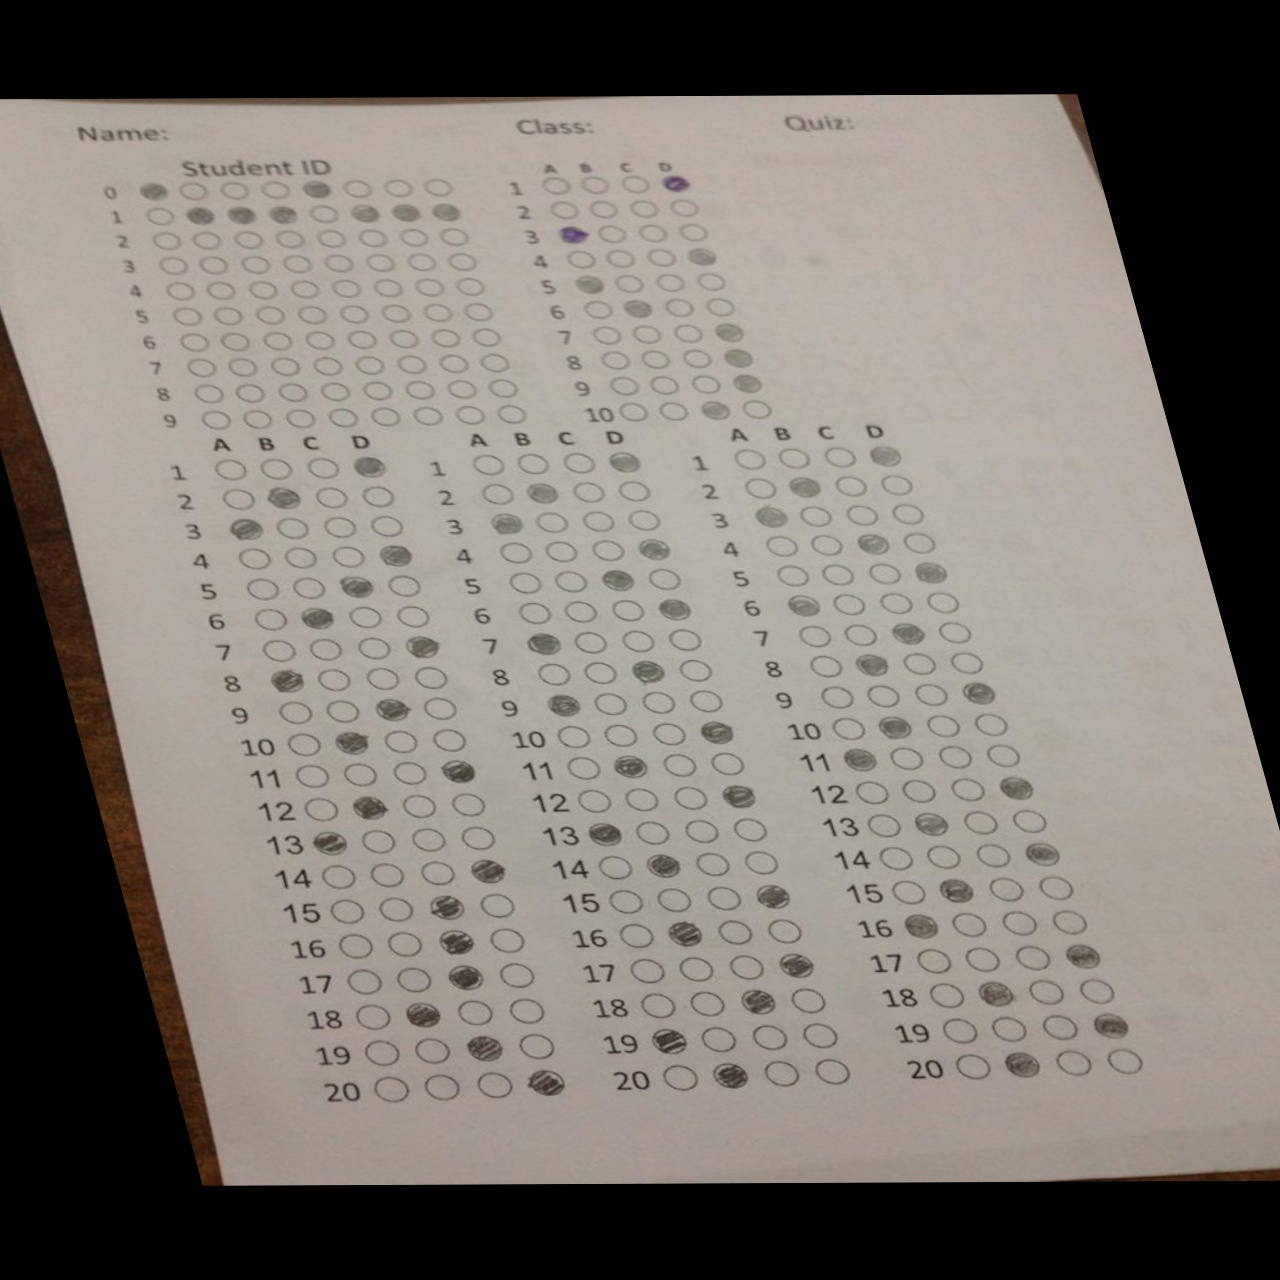not-c: (1048, 1046, 1096, 1077), (654, 1062, 702, 1092), (672, 953, 720, 983), (948, 1050, 996, 1081), (1099, 1046, 1148, 1076), (366, 1073, 413, 1103), (795, 1020, 842, 1050), (721, 953, 768, 983), (469, 1070, 517, 1099), (942, 908, 990, 938), (784, 986, 831, 1015), (745, 1022, 792, 1051), (682, 988, 729, 1017), (622, 954, 669, 983), (806, 1057, 855, 1085), (1073, 976, 1121, 1005), (1032, 873, 1080, 901), (416, 1073, 463, 1101), (756, 1057, 803, 1085), (692, 1024, 738, 1053), (983, 1013, 1030, 1041), (1021, 978, 1068, 1006), (956, 945, 1003, 973), (994, 908, 1041, 937), (1044, 906, 1091, 934), (632, 990, 678, 1019), (590, 852, 635, 880), (629, 818, 675, 846), (935, 1016, 981, 1044), (1036, 1013, 1082, 1041), (1009, 942, 1055, 971), (1005, 806, 1050, 835), (570, 787, 617, 813), (595, 722, 642, 749), (406, 825, 450, 853), (355, 826, 400, 855), (314, 862, 359, 890), (372, 894, 416, 922), (340, 967, 384, 995), (390, 965, 435, 993), (451, 998, 496, 1026), (350, 1002, 395, 1030), (601, 886, 646, 914), (651, 885, 695, 913), (690, 850, 735, 878), (736, 847, 781, 876), (585, 689, 629, 717), (566, 628, 611, 656), (614, 626, 659, 654), (546, 566, 591, 594), (491, 538, 536, 566), (982, 874, 1027, 903), (919, 842, 964, 870), (454, 824, 499, 851), (414, 859, 459, 886), (324, 897, 369, 924), (503, 998, 549, 1024), (358, 1039, 403, 1065), (611, 922, 656, 949), (700, 884, 745, 911), (666, 784, 712, 811), (679, 817, 724, 844), (727, 816, 772, 843), (550, 723, 595, 750), (646, 720, 692, 747), (672, 658, 717, 685), (576, 658, 621, 685), (605, 595, 651, 622), (556, 597, 601, 624), (501, 568, 546, 595), (583, 536, 628, 563), (922, 982, 968, 1009), (971, 842, 1016, 869), (958, 809, 1003, 836), (363, 859, 407, 887), (474, 892, 518, 919), (381, 931, 425, 958), (331, 931, 375, 958), (493, 961, 538, 988), (408, 1036, 452, 1063), (712, 918, 756, 945), (760, 915, 804, 942), (617, 787, 661, 813), (704, 749, 749, 776), (560, 754, 605, 781), (635, 689, 680, 716), (682, 687, 727, 714), (531, 661, 576, 688), (660, 627, 704, 654), (641, 566, 686, 593), (538, 537, 583, 564), (484, 926, 527, 953), (513, 1032, 557, 1058), (656, 753, 700, 779), (512, 600, 556, 627), (736, 474, 779, 501), (794, 501, 836, 527), (256, 638, 299, 663), (309, 666, 353, 692), (396, 792, 440, 818), (770, 561, 813, 587), (791, 622, 835, 648), (908, 681, 952, 707), (968, 712, 1012, 737), (825, 715, 869, 741), (840, 501, 881, 527), (377, 728, 422, 753), (726, 445, 770, 470), (896, 530, 940, 554), (286, 576, 328, 601), (302, 636, 345, 662), (320, 699, 362, 724), (273, 699, 315, 724), (386, 760, 428, 785), (288, 762, 331, 788), (298, 796, 340, 822), (576, 508, 618, 533), (474, 481, 516, 506), (465, 452, 508, 478), (873, 470, 915, 496), (758, 532, 801, 558), (837, 620, 879, 646), (874, 591, 917, 617), (896, 651, 938, 676), (921, 713, 964, 738), (945, 776, 987, 802), (873, 844, 915, 870), (885, 878, 927, 904), (381, 573, 424, 598), (389, 602, 433, 627), (408, 665, 451, 689), (566, 479, 610, 504), (509, 451, 552, 476), (885, 501, 928, 525), (802, 531, 845, 556), (813, 561, 857, 586), (944, 649, 987, 674), (981, 742, 1024, 767), (896, 778, 939, 803), (847, 779, 891, 804), (910, 948, 953, 973), (241, 576, 282, 601), (343, 604, 384, 629), (338, 761, 379, 787), (828, 591, 869, 617), (268, 516, 311, 540), (247, 605, 290, 629), (352, 635, 394, 660), (360, 666, 402, 690), (417, 695, 459, 720), (425, 727, 468, 751), (529, 509, 571, 533), (621, 508, 663, 532), (772, 445, 815, 470), (818, 445, 860, 470), (828, 472, 870, 497), (920, 588, 962, 613), (933, 619, 975, 644), (804, 653, 846, 678), (813, 685, 856, 709), (860, 683, 903, 708), (884, 745, 926, 770), (860, 812, 903, 837), (611, 478, 654, 502), (554, 451, 598, 475), (253, 456, 294, 481), (302, 455, 343, 479), (358, 483, 399, 508), (445, 791, 486, 816), (281, 731, 324, 755), (862, 561, 904, 585), (933, 744, 975, 768), (338, 176, 377, 200), (433, 224, 472, 248), (248, 302, 288, 327), (209, 457, 250, 481), (309, 485, 350, 509), (216, 486, 257, 510), (318, 515, 359, 538), (365, 515, 406, 538), (326, 544, 367, 567), (188, 381, 227, 404), (229, 381, 268, 404), (206, 304, 246, 327), (199, 279, 239, 302), (264, 354, 304, 377), (306, 354, 346, 377), (291, 302, 331, 326), (282, 275, 322, 299), (348, 353, 388, 376), (424, 326, 464, 349), (279, 545, 319, 568), (159, 279, 198, 302), (196, 408, 234, 431), (377, 176, 416, 199), (302, 200, 341, 224), (392, 225, 430, 248), (326, 275, 365, 299), (358, 377, 396, 401), (181, 355, 220, 377), (234, 407, 274, 429), (215, 331, 254, 353), (192, 253, 232, 275), (185, 229, 225, 251), (234, 253, 274, 275), (441, 250, 481, 272), (322, 406, 362, 428), (233, 547, 273, 570), (139, 205, 177, 229), (166, 304, 204, 327), (253, 177, 291, 200), (358, 251, 399, 272), (145, 229, 184, 251), (173, 331, 212, 353), (222, 355, 260, 377), (215, 178, 253, 200), (172, 178, 211, 200), (417, 175, 456, 197), (268, 229, 307, 251), (241, 278, 280, 300), (271, 380, 309, 402), (279, 407, 318, 429), (315, 380, 354, 402), (333, 301, 372, 324), (365, 404, 403, 427), (448, 275, 486, 298), (467, 325, 505, 347), (482, 376, 520, 399), (350, 227, 390, 248), (318, 252, 358, 273), (275, 252, 315, 273), (257, 329, 297, 350), (399, 377, 438, 399), (624, 198, 663, 219), (611, 400, 651, 421), (152, 253, 190, 275), (491, 401, 529, 423), (226, 227, 265, 248), (311, 227, 349, 248), (299, 329, 338, 350), (342, 329, 381, 350), (367, 275, 406, 297), (374, 302, 413, 324), (383, 328, 422, 349), (407, 406, 445, 427), (441, 379, 479, 400), (431, 352, 470, 373), (417, 301, 456, 322), (408, 275, 447, 297), (474, 350, 512, 372), (665, 196, 703, 217), (591, 222, 629, 243), (652, 400, 690, 421), (634, 348, 673, 369), (685, 373, 724, 393), (449, 404, 486, 425), (459, 301, 497, 322), (574, 173, 612, 195), (545, 199, 583, 220), (584, 198, 621, 219), (641, 246, 679, 267), (649, 271, 687, 292), (678, 347, 715, 368), (401, 251, 440, 271), (390, 353, 429, 373), (535, 175, 573, 195), (615, 173, 654, 193), (673, 222, 712, 241), (610, 273, 648, 293), (699, 297, 737, 316), (658, 297, 696, 316), (577, 299, 615, 319), (602, 375, 641, 395), (644, 375, 682, 395), (666, 322, 704, 342), (736, 399, 775, 418), (600, 247, 638, 267), (561, 248, 599, 268), (587, 324, 625, 343), (594, 349, 632, 369), (635, 223, 672, 243), (690, 270, 727, 290), (627, 324, 663, 343)
taken-c: (519, 1067, 568, 1098), (704, 1061, 754, 1092), (642, 1024, 692, 1056), (394, 999, 445, 1028), (459, 1033, 509, 1062), (430, 927, 481, 955), (520, 628, 568, 658), (438, 964, 488, 992), (579, 818, 626, 847), (869, 712, 915, 741), (731, 987, 779, 1015), (1085, 1012, 1133, 1040), (1017, 840, 1065, 869), (990, 772, 1039, 801), (998, 1049, 1044, 1077), (971, 979, 1017, 1007), (1057, 941, 1104, 969), (771, 952, 818, 980), (661, 919, 708, 947), (897, 911, 944, 939), (713, 782, 760, 810), (463, 856, 509, 884), (749, 881, 795, 910), (932, 876, 978, 904), (640, 851, 686, 879), (907, 809, 953, 837), (837, 744, 883, 772), (305, 829, 352, 856), (605, 753, 652, 779), (692, 719, 738, 745), (538, 692, 585, 719), (625, 658, 672, 685), (782, 474, 828, 501), (863, 443, 908, 470), (434, 758, 481, 784), (423, 893, 468, 920), (593, 566, 638, 593), (631, 535, 675, 561), (222, 516, 267, 542), (345, 795, 390, 821), (651, 595, 695, 621), (483, 510, 527, 536), (847, 652, 892, 678), (884, 620, 928, 646), (906, 559, 951, 585), (850, 531, 894, 557), (748, 503, 792, 529), (519, 481, 564, 506), (779, 592, 825, 617), (954, 679, 998, 704), (264, 669, 309, 693), (294, 605, 338, 629), (333, 574, 377, 598), (327, 730, 372, 754), (372, 542, 414, 566), (346, 455, 388, 479), (399, 634, 442, 658), (369, 697, 413, 721), (715, 345, 756, 369), (602, 450, 645, 474), (261, 485, 302, 509), (343, 200, 384, 223), (425, 200, 467, 223), (679, 245, 720, 267), (295, 178, 335, 200), (384, 200, 424, 223), (218, 204, 258, 226), (179, 204, 219, 226), (708, 321, 749, 342), (617, 297, 655, 319), (263, 204, 302, 225), (551, 223, 591, 244), (654, 172, 694, 193), (726, 372, 765, 393), (694, 399, 734, 420), (567, 273, 606, 294), (132, 181, 172, 200)
